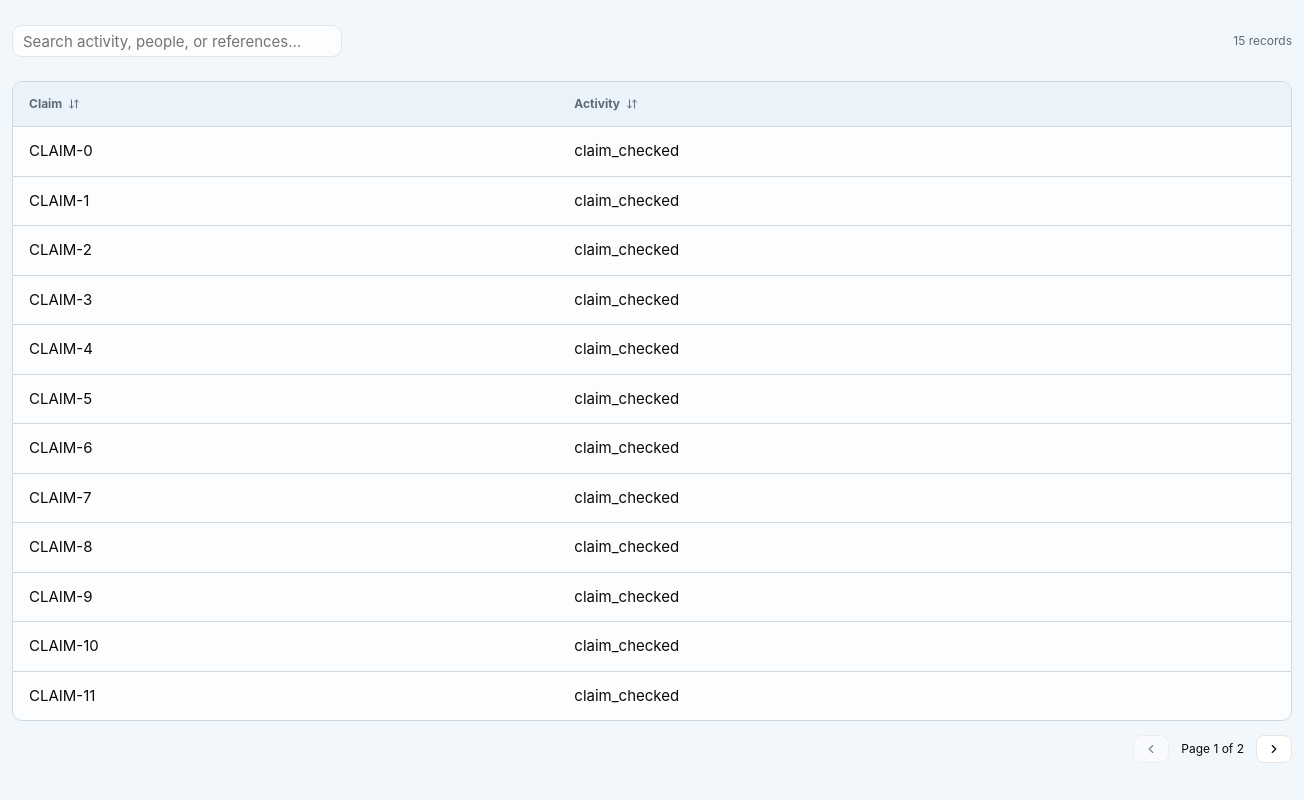
Test: report table › paginates, searches all records, and resets pagination on search
Check: the text "CLAIM-14" is not shown
Click the button named "Next page" at (1274, 749), box [1256,735,1292,763]
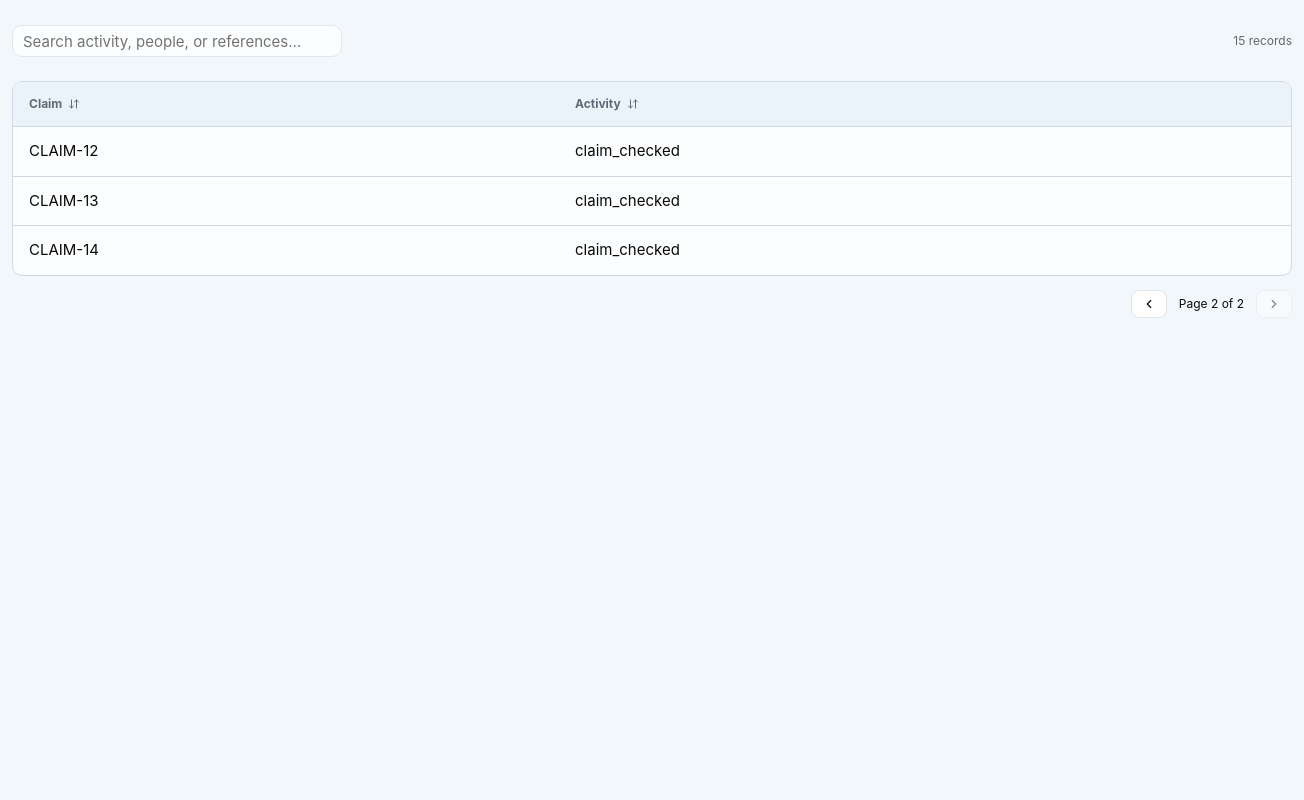
Check: the text "CLAIM-14" is shown, box [29,240,99,259]
Type "CLAIM-0" into the search field at (177, 41), box [12,25,342,57]
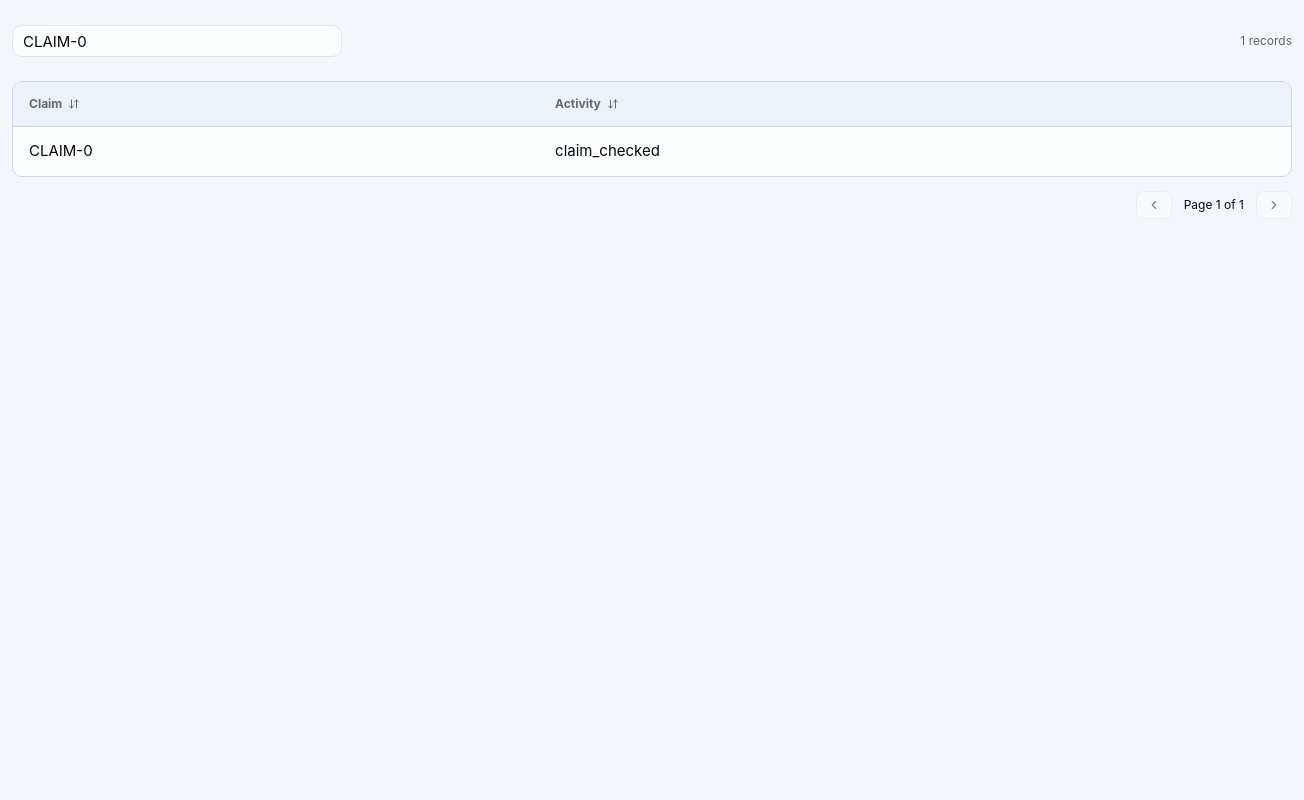
Check: the button named "Next page" is disabled, box [1256,190,1292,218]
Check: the text "CLAIM-0" is shown, box [29,141,93,160]
Check: the text "Page 1 of 1" is shown, box [1184,196,1244,214]
